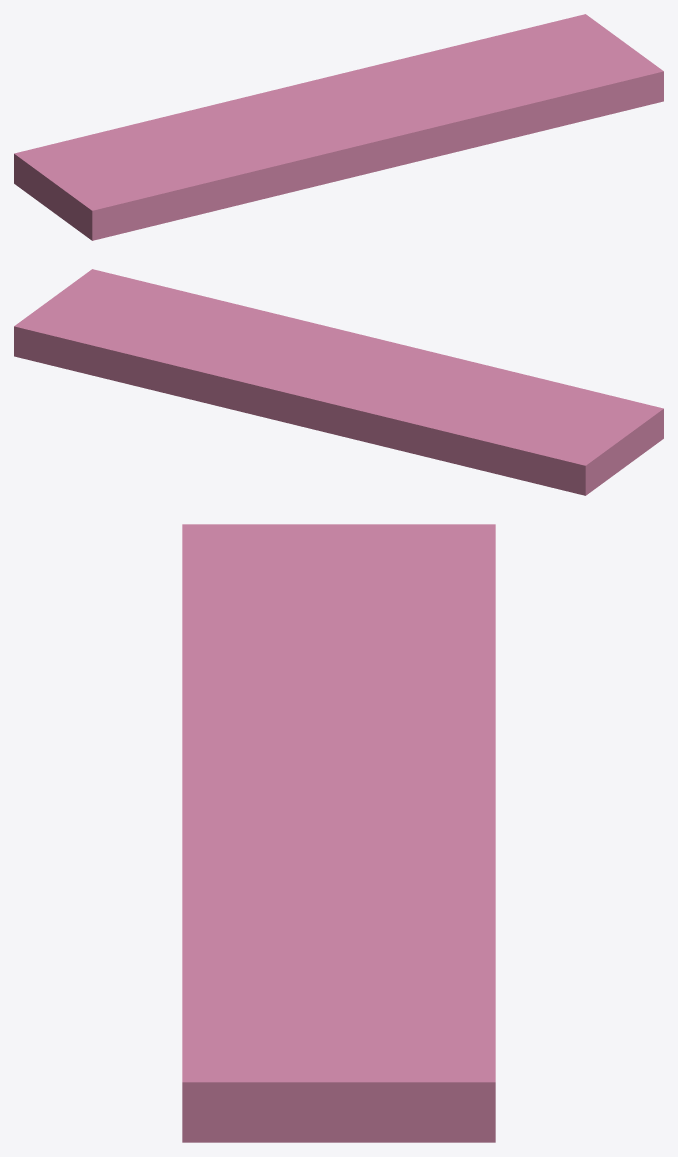
The model's file is curb_roundb_8m.dae.
3 views of the same model, one above another, from view 1: azimuth 30°, elevation 25°; view 2: azimuth 150°, elevation 25°; view 3: azimuth 270°, elevation 25° (orthographic). The views are drawn at different scales.
Visible parts, largest first — view 1: Untitled; view 2: Untitled; view 3: Untitled.
Boxes of the visible parts, x1,y1,x2,y2 form: Untitled: (14, 14, 663, 240); Untitled: (14, 269, 663, 495); Untitled: (182, 524, 495, 1142).
Size of the model in its own units: 8.11 by 1.92 by 0.4481.
